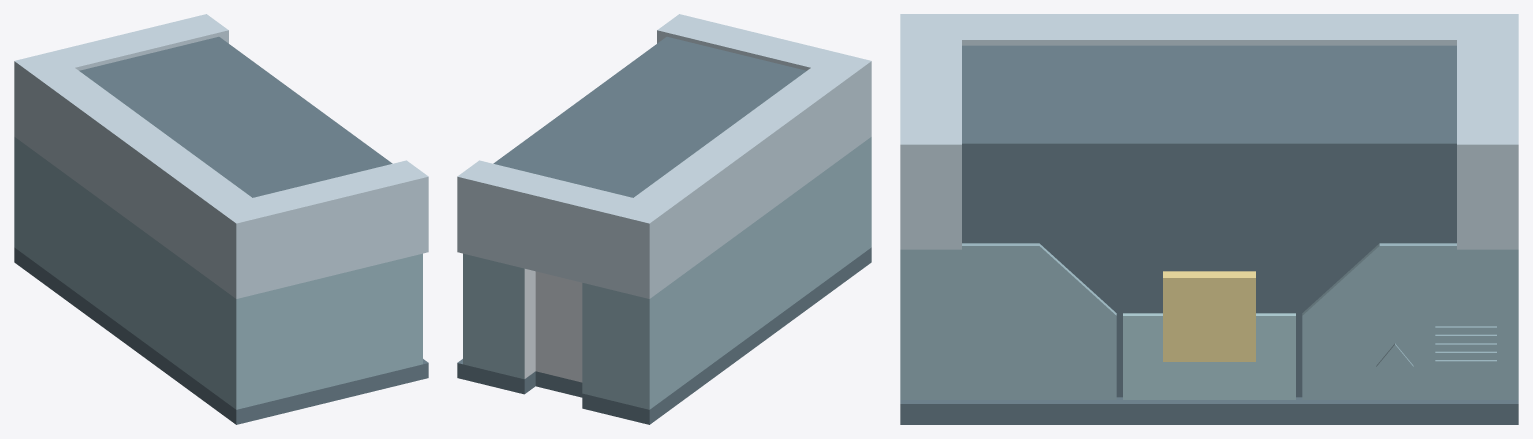
The picture shows the model from 3 angles, left to right: view 1: azimuth 30°, elevation 25°; view 2: azimuth 150°, elevation 25°; view 3: azimuth 270°, elevation 25°; orthographic projection. The views are drawn at different scales.
Parts seen in each view (by area): view 1: box-h; view 2: box-h; view 3: box-h.
Boxes of the visible parts, box(x1,y1,x2,y2) form: box-h: box(14, 14, 428, 424); box-h: box(457, 14, 871, 424); box-h: box(900, 14, 1518, 424).
Bounding box in the file's own units: 100 × 100 × 200.
